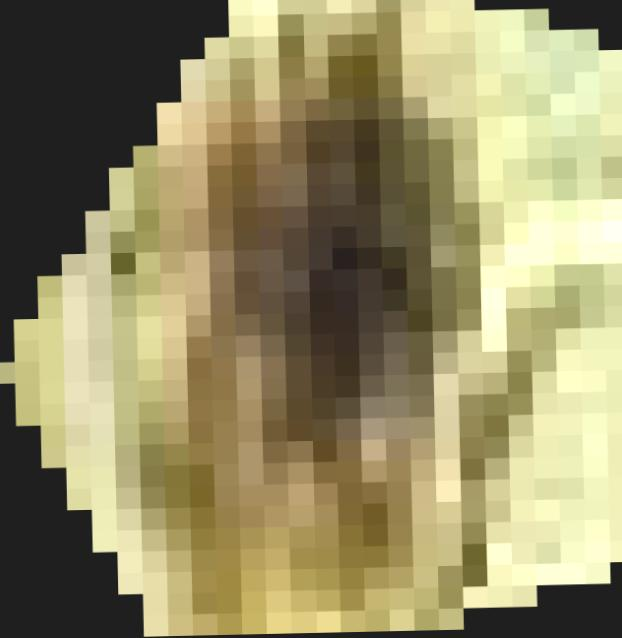Pitting Corrosion: (1, 0, 622, 637)
